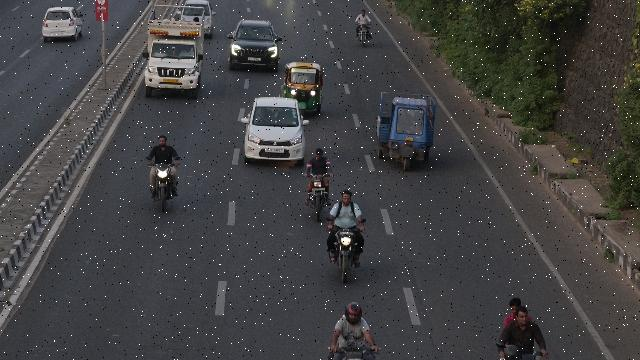Without Helmet: (343, 300, 365, 324), (340, 188, 354, 204), (313, 146, 325, 160), (156, 134, 168, 146), (361, 8, 367, 16)
